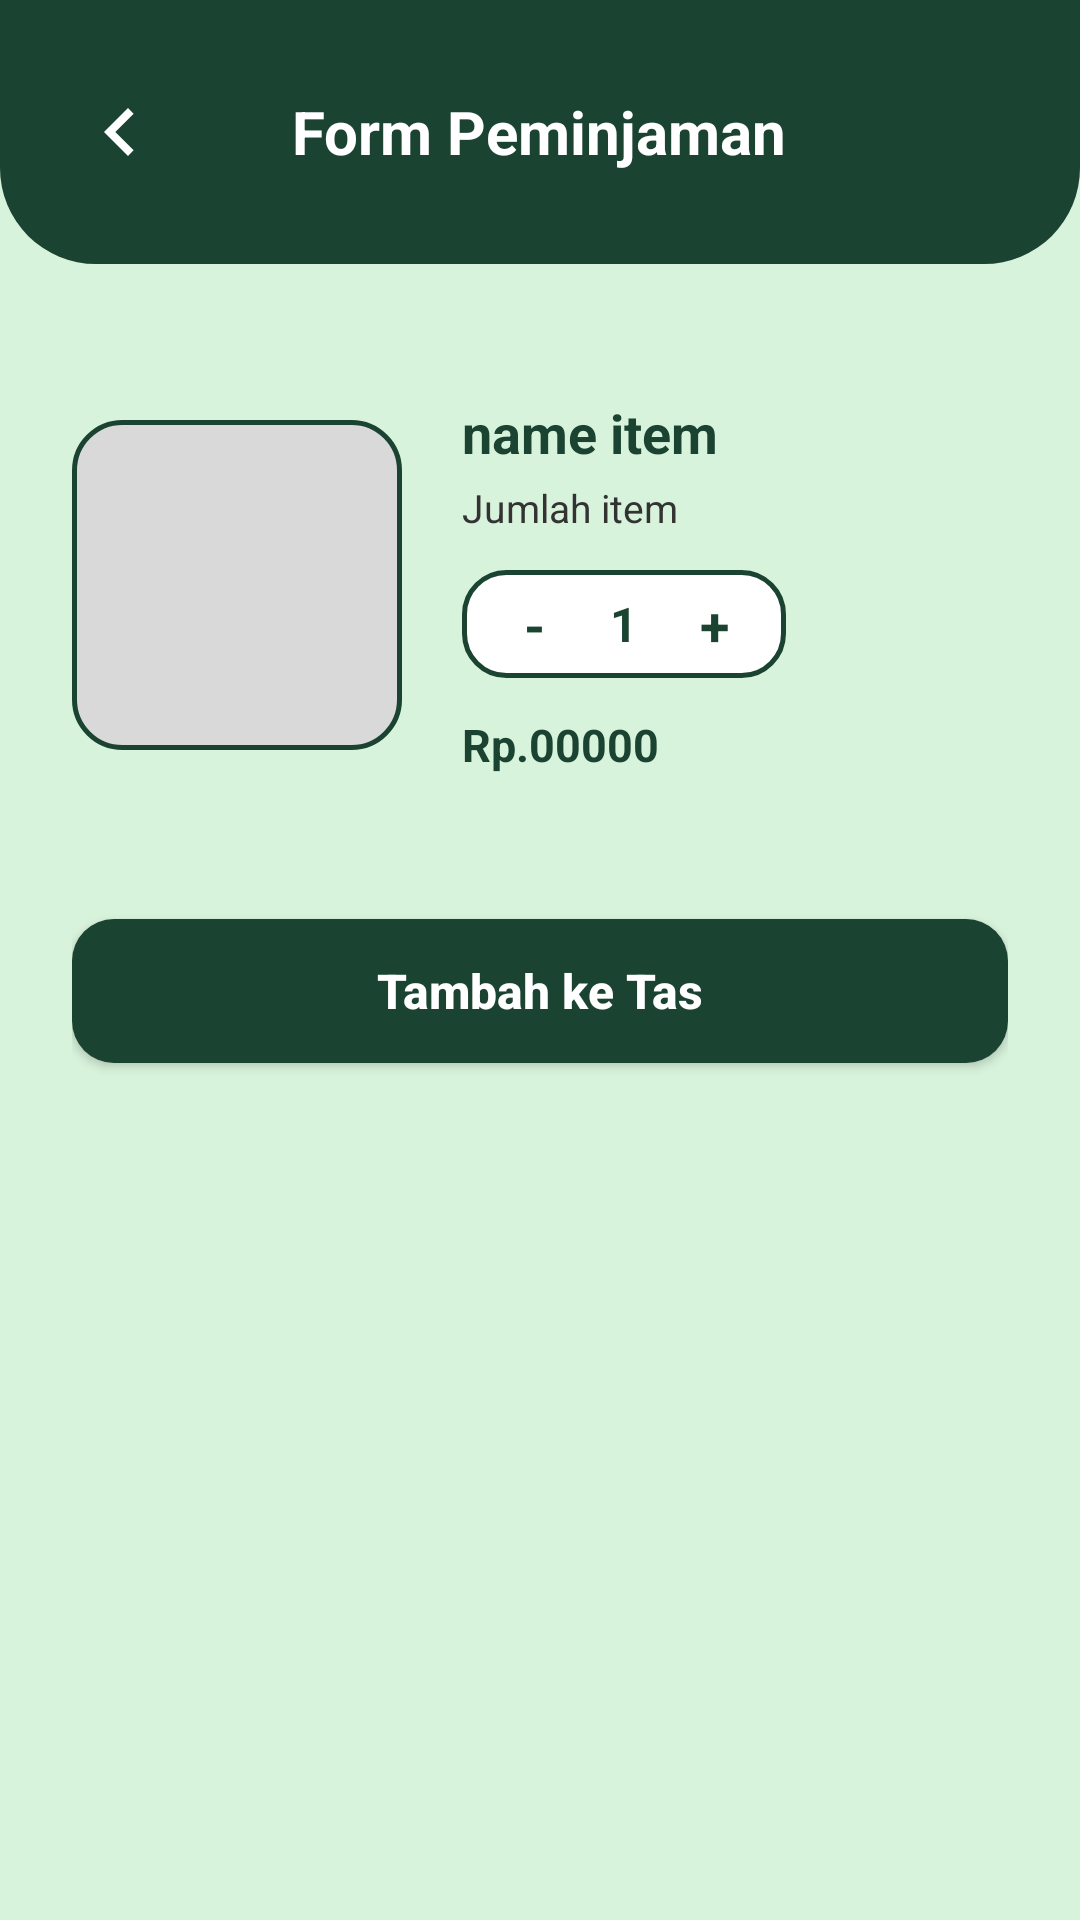

Point at icon controls on the screen. Image size 1080*1920, points as point (x, y).
Kembali: point (119, 132)
